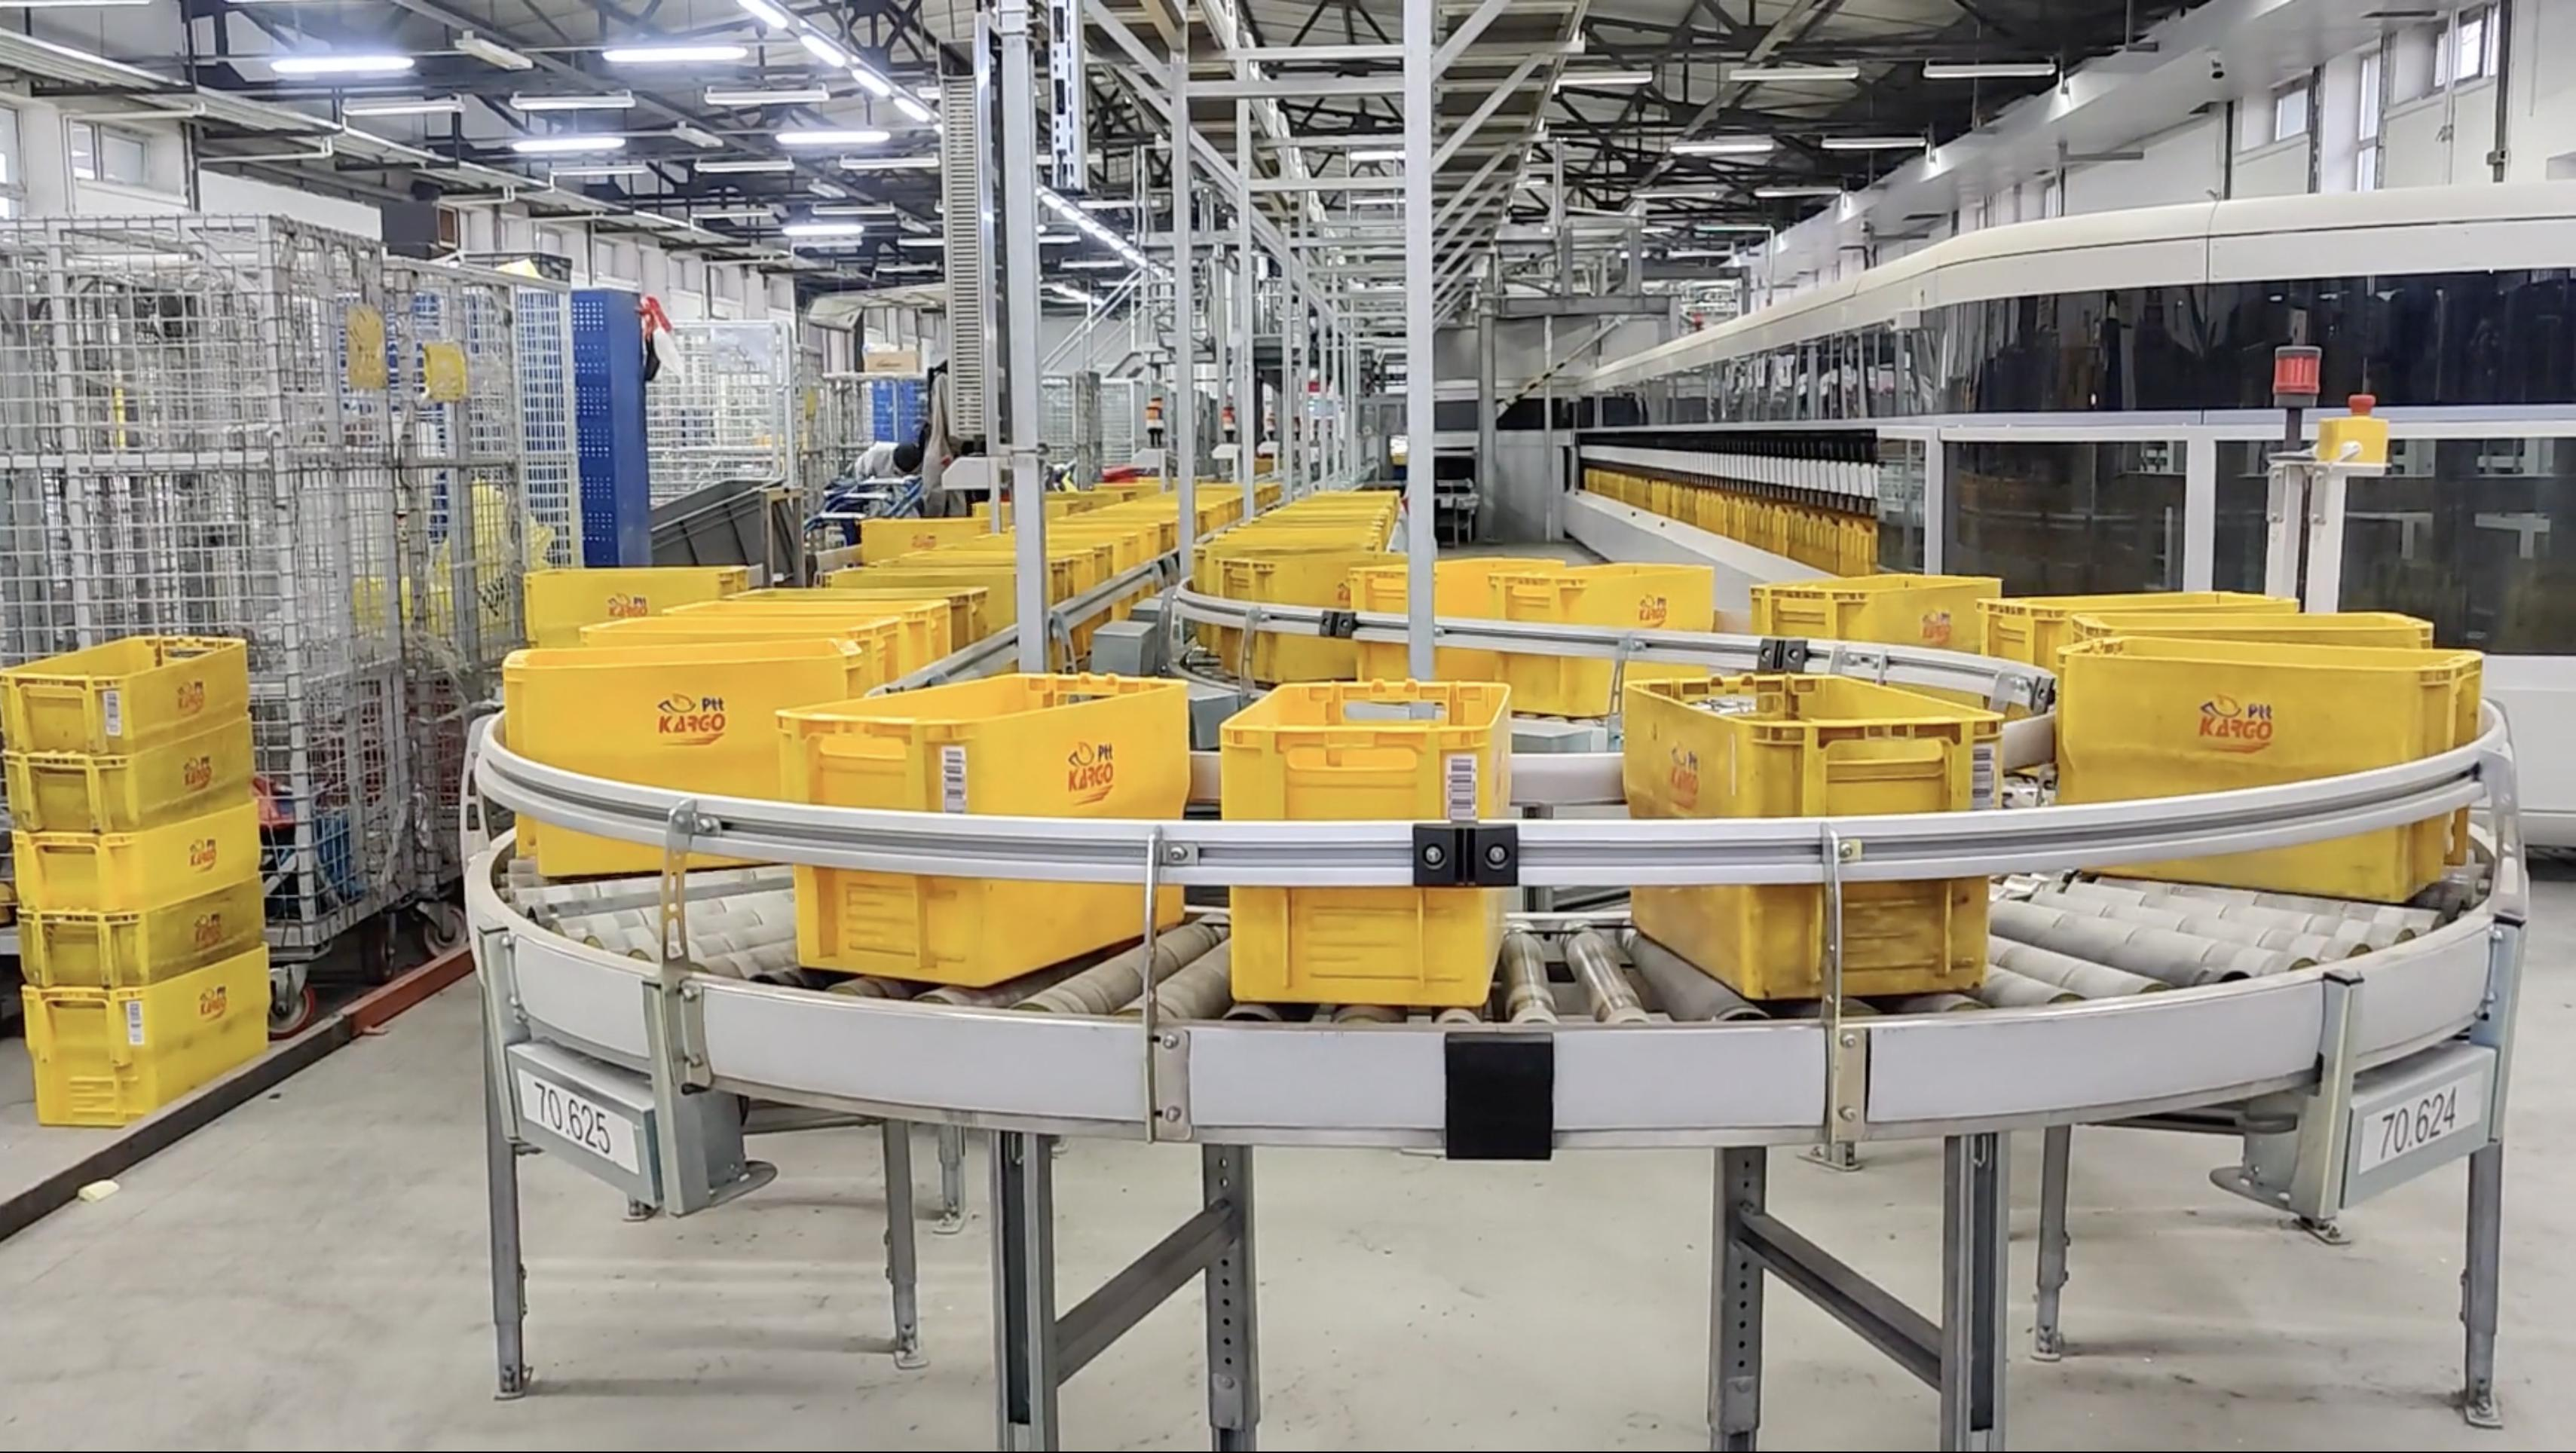Box: (764, 690, 1198, 988), (1626, 665, 1997, 1005), (2063, 628, 2482, 904), (1215, 673, 1520, 1011), (499, 641, 869, 876), (1750, 582, 2005, 655)
